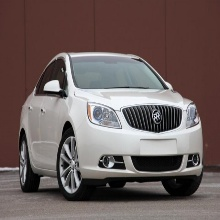no damage: (17, 51, 205, 201)
